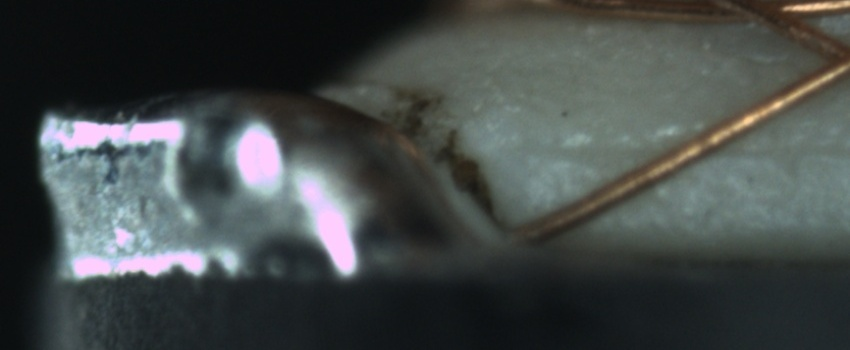CL: (798, 25, 850, 90)
DL: (504, 117, 850, 181)
